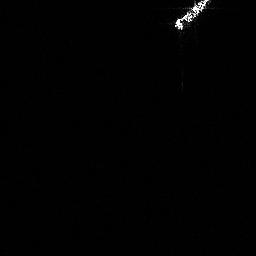ship: (172, 1, 216, 34)
